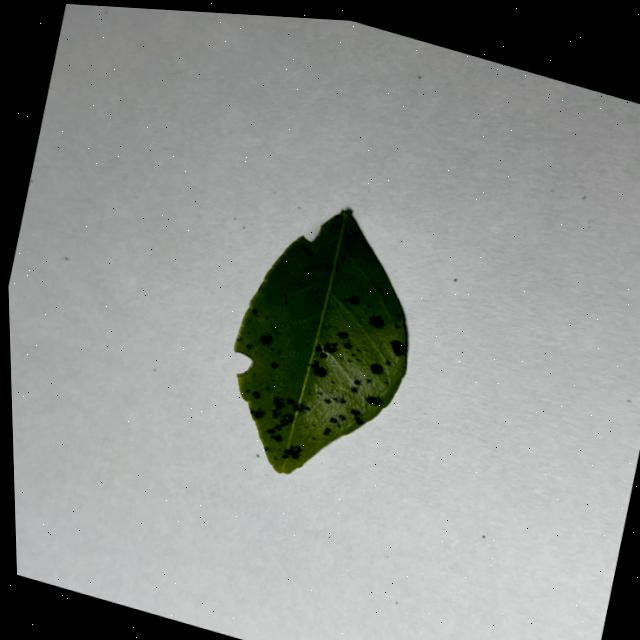sooty_mold: (235, 209, 408, 472)
